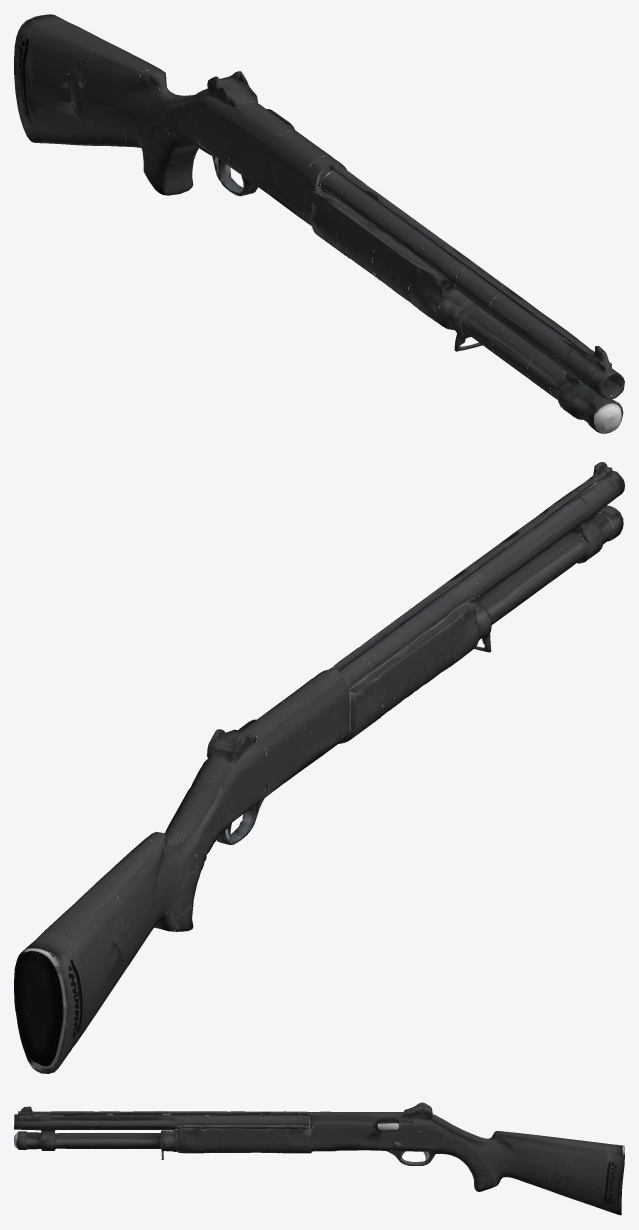
3 views of the same model, one above another, from view 1: azimuth 30°, elevation 25°; view 2: azimuth 150°, elevation 25°; view 3: azimuth 270°, elevation 25° (orthographic). The views are drawn at different scales.
Parts seen in each view (by area): view 1: tripo_node_72592bf2-1ca1-499e-8b4d-bc6d1584746d; view 2: tripo_node_72592bf2-1ca1-499e-8b4d-bc6d1584746d; view 3: tripo_node_72592bf2-1ca1-499e-8b4d-bc6d1584746d.
Part boxes in pixels (x1,y1,x2,y2): tripo_node_72592bf2-1ca1-499e-8b4d-bc6d1584746d: (14, 14, 624, 433); tripo_node_72592bf2-1ca1-499e-8b4d-bc6d1584746d: (14, 462, 624, 1073); tripo_node_72592bf2-1ca1-499e-8b4d-bc6d1584746d: (14, 1102, 624, 1215).
Size of the model in its own units: 0.0568 by 0.1967 by 1.
1 material, 1 textured.
